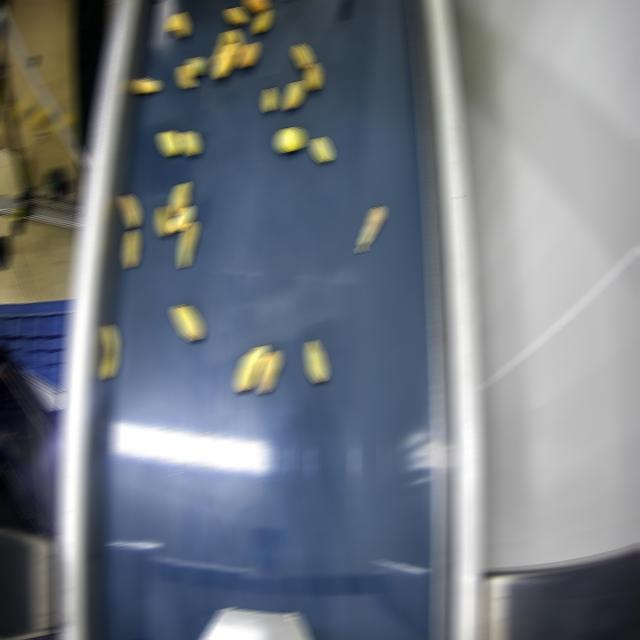Baby Potato: (235, 345, 266, 391), (358, 207, 383, 253), (172, 304, 201, 340), (257, 351, 280, 393), (212, 43, 237, 79), (102, 324, 117, 379), (306, 340, 325, 383), (275, 127, 304, 152), (181, 223, 196, 267), (120, 194, 139, 228), (212, 31, 231, 63), (169, 206, 192, 232), (123, 230, 138, 268), (171, 182, 188, 215), (283, 80, 302, 109), (159, 130, 180, 156), (166, 12, 187, 37), (238, 42, 257, 68), (312, 137, 331, 162), (179, 131, 198, 156), (156, 206, 171, 236), (294, 44, 311, 69), (253, 9, 270, 32), (177, 64, 194, 87), (305, 64, 320, 90), (185, 56, 204, 76), (225, 7, 246, 25), (133, 78, 158, 93), (228, 29, 241, 54), (244, 0, 267, 14), (262, 89, 275, 111)
